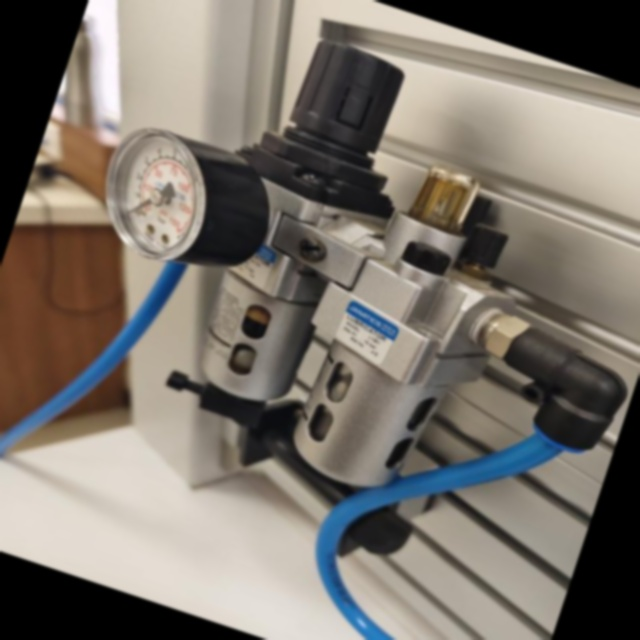FRL unit: (7, 0, 640, 627)
